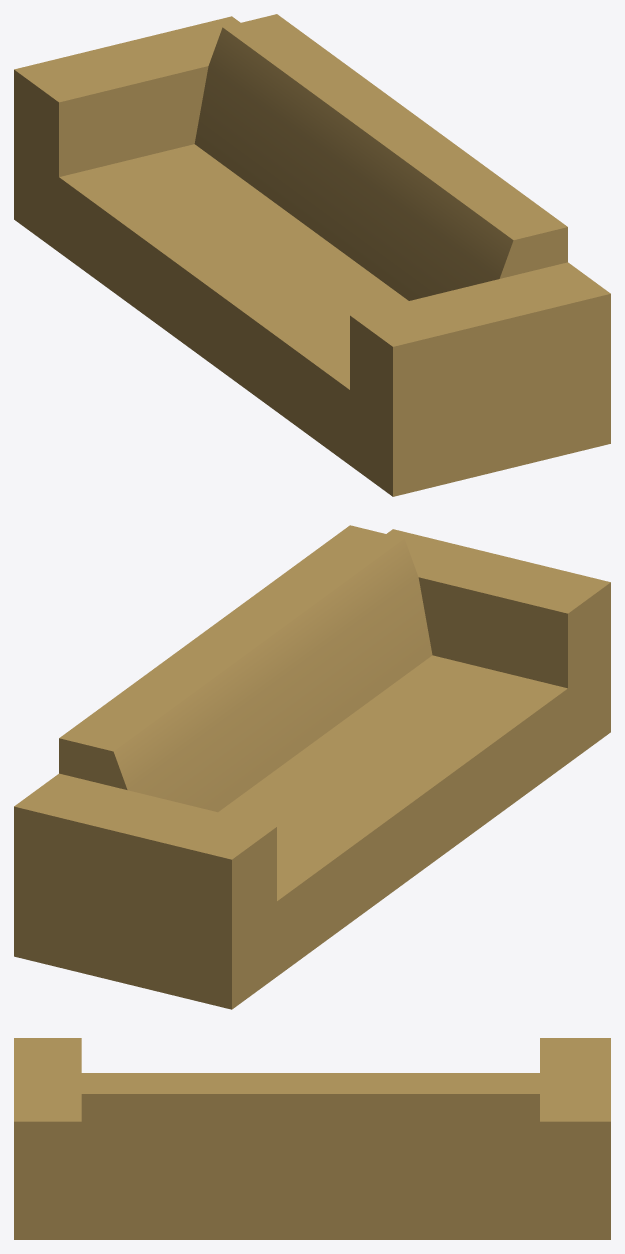
Rendered from Decor_Sofa.fbx.
3 renders of one model, top to bottom at view 1: azimuth 30°, elevation 25°; view 2: azimuth 150°, elevation 25°; view 3: azimuth 270°, elevation 25°, orthographic. The views are drawn at different scales.
Visible parts, largest first — view 1: Sofa3; view 2: Sofa3; view 3: Sofa3.
Part boxes in pixels (left/top/right/bottom): Sofa3: left=14, top=14, right=610, bottom=496; Sofa3: left=14, top=525, right=610, bottom=1009; Sofa3: left=14, top=1038, right=610, bottom=1239.
Size of the model in its own units: 1.57 by 1.28 by 4.73.
1 material, 1 textured.
